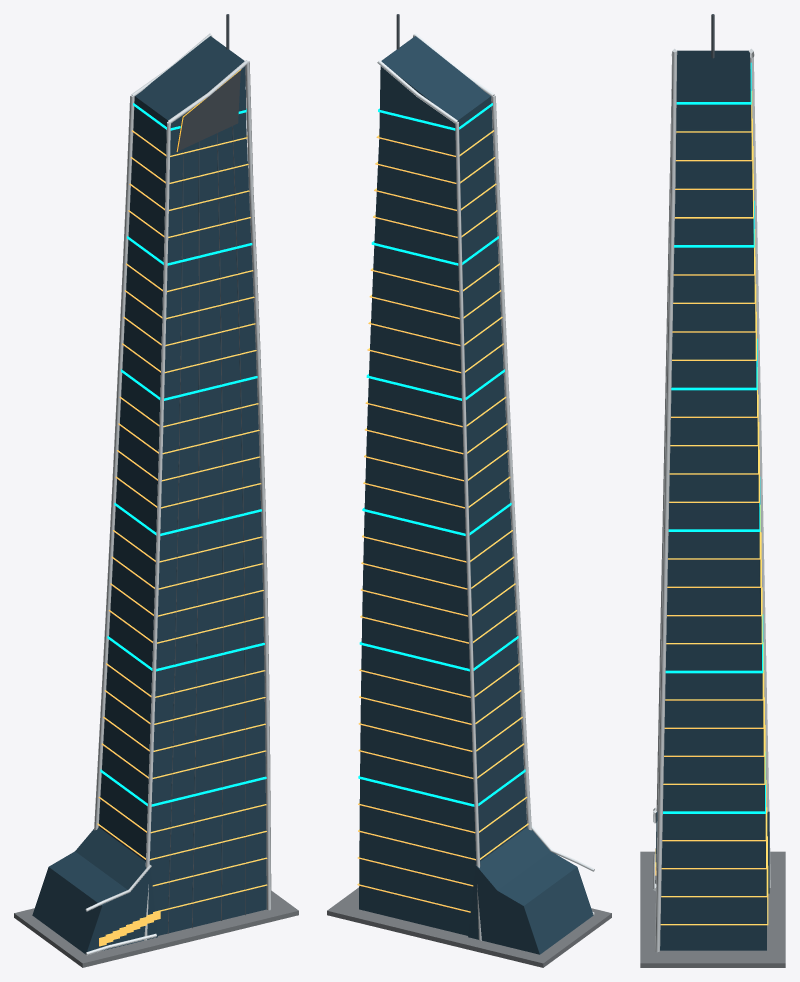
The model's file is Model_ Stage 10 .glb.
3 renders of one model, left to right at view 1: azimuth 30°, elevation 25°; view 2: azimuth 150°, elevation 25°; view 3: azimuth 270°, elevation 25°, orthographic. The views are drawn at different scales.
Visible parts, largest first — view 1: SailTowerGlassShell.006, SignatureWhiteTowerRibbon.006, SweepingPodiumGlass.007, SailWarmFloorBands.006, FacadeMullions.006, SailFoundation.009, SailSkyLobbyBands.006, CrownAperture.002; view 2: SailTowerGlassShell.006, SweepingPodiumGlass.007, SignatureWhiteTowerRibbon.006, SailWarmFloorBands.006, SailFoundation.009, SailSkyLobbyBands.006; view 3: SailTowerGlassShell.006, SignatureWhiteTowerRibbon.006, SailWarmFloorBands.006, SailFoundation.009, SailSkyLobbyBands.006.
Part boxes in pixels (x1,y1,x2,y2): SailTowerGlassShell.006: (98,36,266,935); SignatureWhiteTowerRibbon.006: (94,33,271,940); SweepingPodiumGlass.007: (32,827,157,954); SailWarmFloorBands.006: (97,130,267,911); FacadeMullions.006: (167,126,245,933); SailFoundation.009: (14,890,298,967); SailSkyLobbyBands.006: (100,103,266,806); CrownAperture.002: (176,70,240,151); SailTowerGlassShell.006: (359,36,527,935); SweepingPodiumGlass.007: (468,827,593,954); SignatureWhiteTowerRibbon.006: (377,33,531,940); SailWarmFloorBands.006: (357,130,528,912); SailFoundation.009: (327,887,611,967); SailSkyLobbyBands.006: (358,103,525,806); SailTowerGlassShell.006: (660,50,766,950); SignatureWhiteTowerRibbon.006: (655,48,770,952); SailWarmFloorBands.006: (660,91,768,925); SailFoundation.009: (640,851,785,967); SailSkyLobbyBands.006: (663,62,765,813).
Bounding box in the file's own units: 20 × 78.15 × 11.
